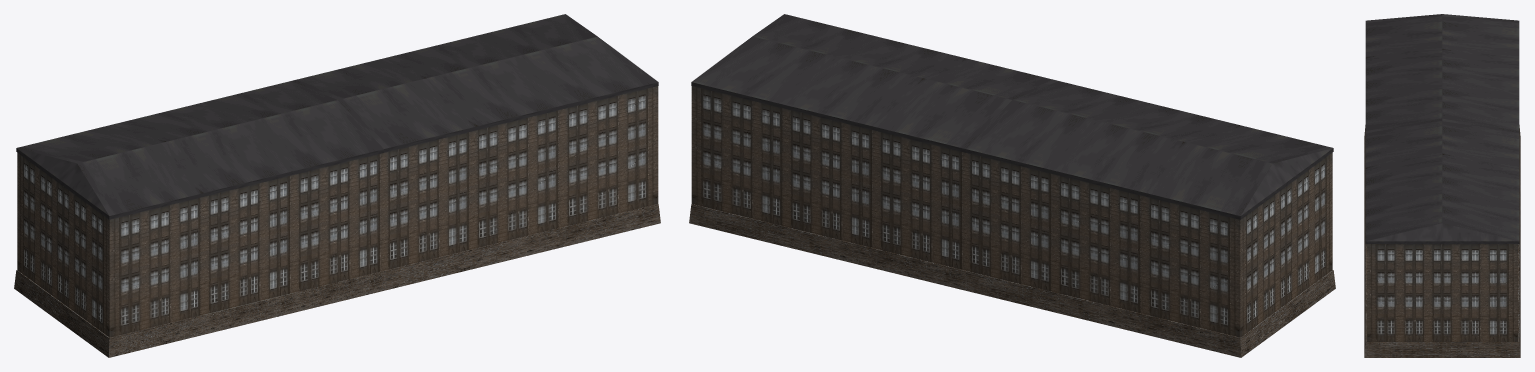
Rendered from factory_building_big_bgr.fbx.
3 renders of one model, left to right at view 1: azimuth 30°, elevation 25°; view 2: azimuth 150°, elevation 25°; view 3: azimuth 270°, elevation 25°, orthographic. The views are drawn at different scales.
Visible parts, largest first — view 1: factory_building_big_bgr; view 2: factory_building_big_bgr; view 3: factory_building_big_bgr.
Part boxes in pixels (x1,y1,x2,y2): factory_building_big_bgr: (14, 14, 660, 357); factory_building_big_bgr: (689, 14, 1335, 357); factory_building_big_bgr: (1364, 14, 1520, 357).
Bounding box in the file's own units: 7670 × 2070 × 2280.
